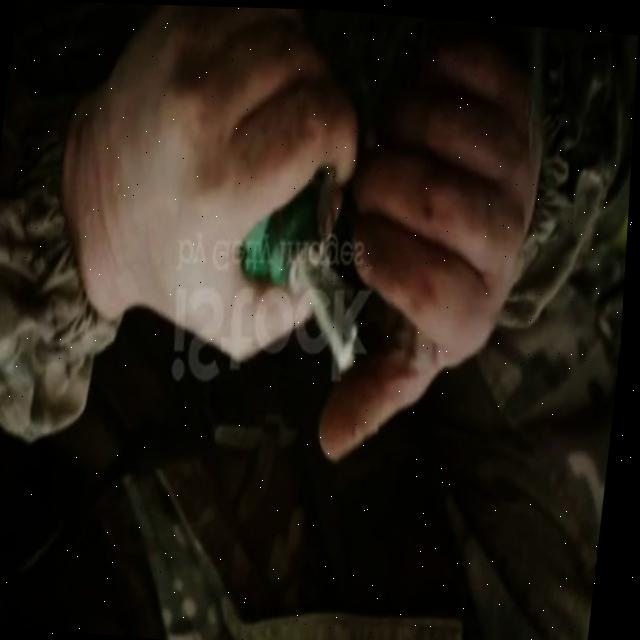grenade: (242, 167, 386, 386)
